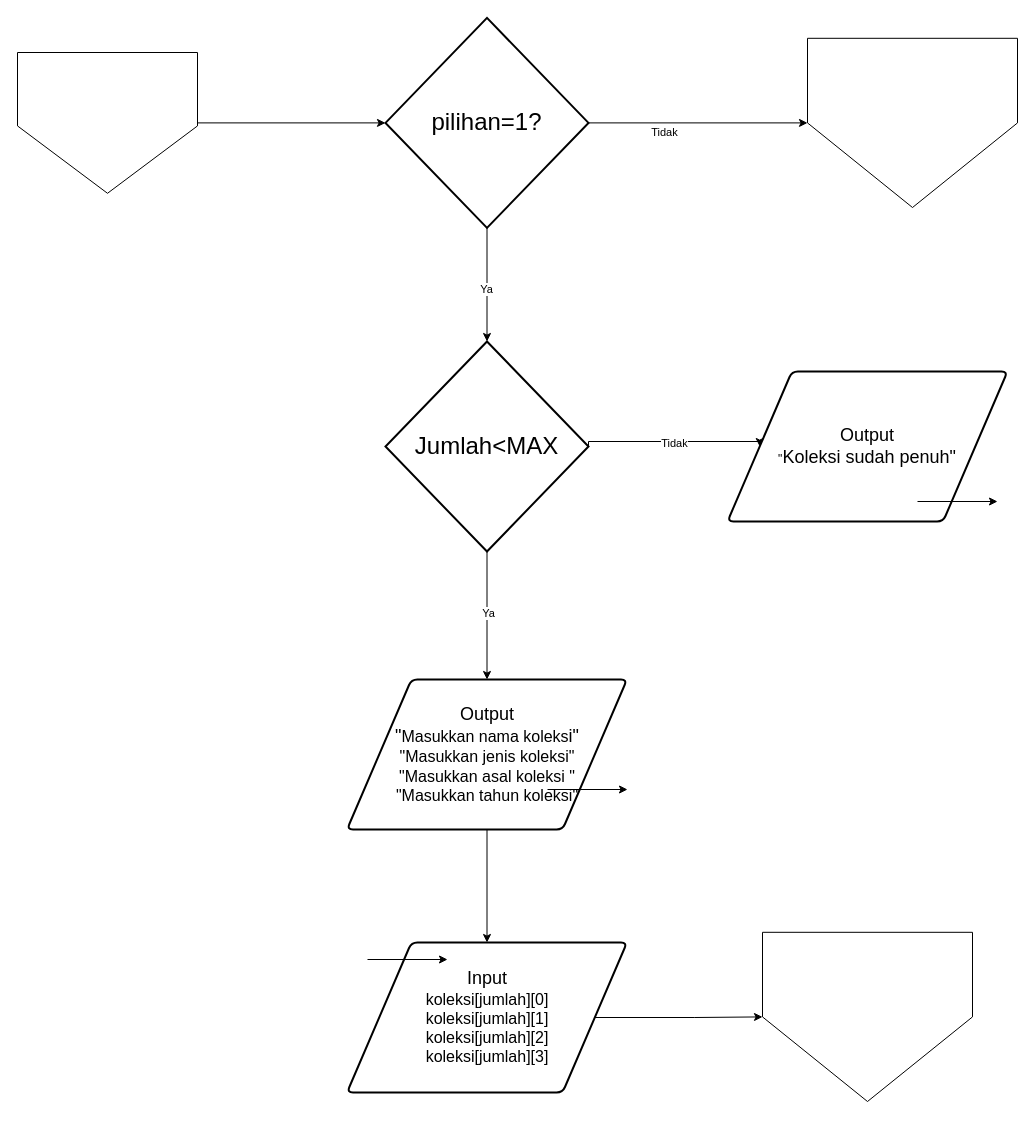
Image size: 1035x1140. Some labels were removed from this diagram. The centre of each missing label's shape, as x and y in pixels:
"A2" belongs at point (107, 122).
"A3" belongs at point (912, 122).
"A7" belongs at point (867, 1016).
